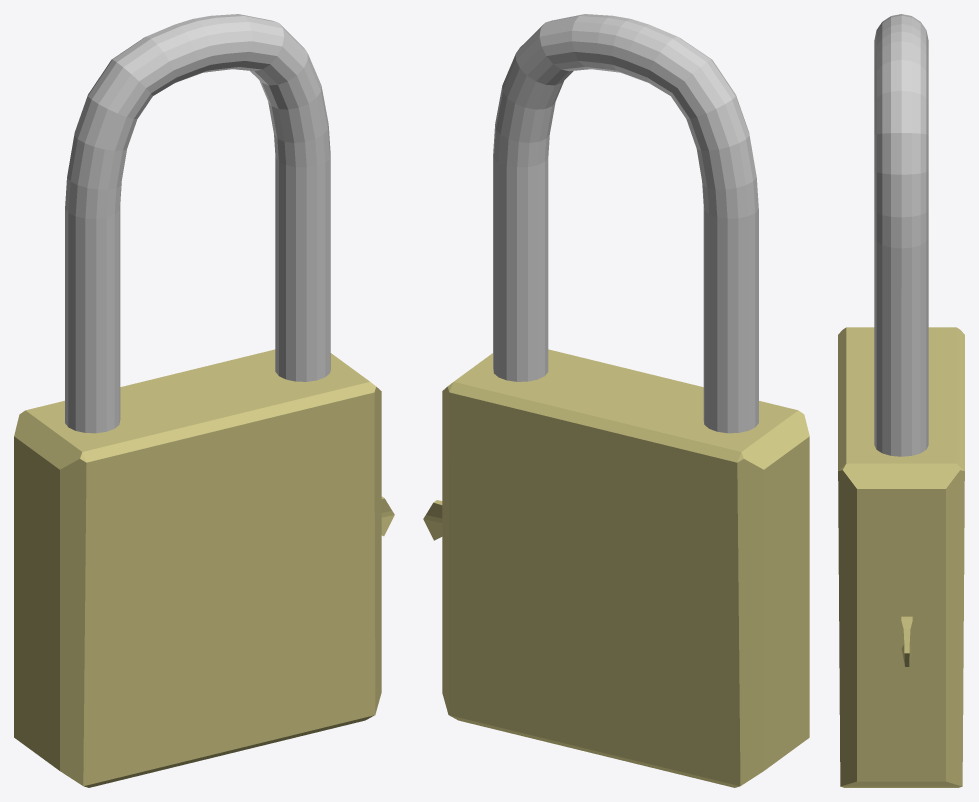
Rendered from Key-Lock.fbx.
3 renders of one model, left to right at view 1: azimuth 30°, elevation 25°; view 2: azimuth 150°, elevation 25°; view 3: azimuth 270°, elevation 25°, orthographic. The views are drawn at different scales.
Parts seen in each view (by area): view 1: Lock, Metal thingy; view 2: Lock, Metal thingy; view 3: Lock, Metal thingy, Key.
Boxes of the visible parts, x1,y1,x2,y2 form: Lock: (14, 349, 381, 787); Metal thingy: (65, 14, 330, 433); Lock: (442, 349, 809, 787); Metal thingy: (493, 14, 758, 433); Lock: (838, 327, 964, 787); Metal thingy: (874, 14, 928, 456); Key: (901, 616, 912, 666).
Size of the model in its own units: 22.34 by 42.34 by 7.03.
